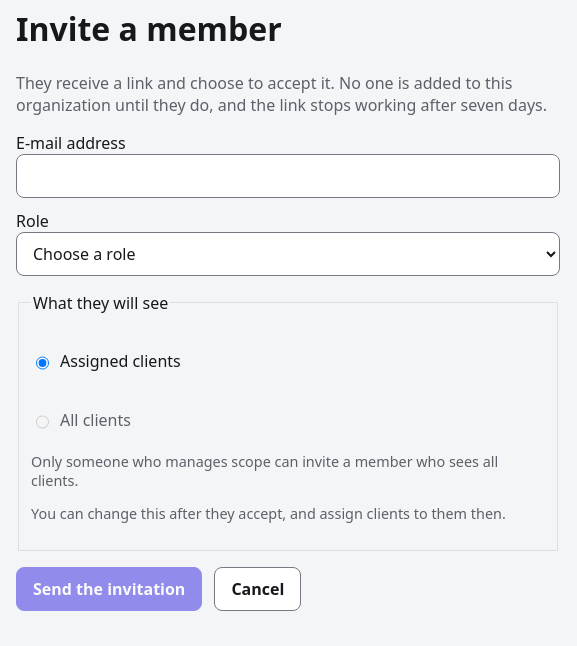
Test: InviteMemberScreen — the address › does not send adnan, and says why at the field
The image size is (577, 646).
Type "adnan" into the field labelled "E-mail address" at point(288, 176), box x1=16 y1=154 x2=560 y2=198
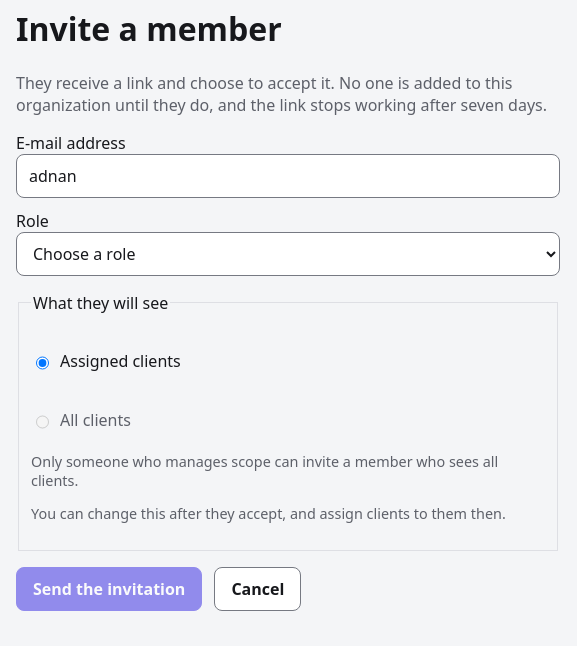
Select "Viewer" in the dropdown labelled "Role" at point(288, 254), box x1=16 y1=232 x2=560 y2=276
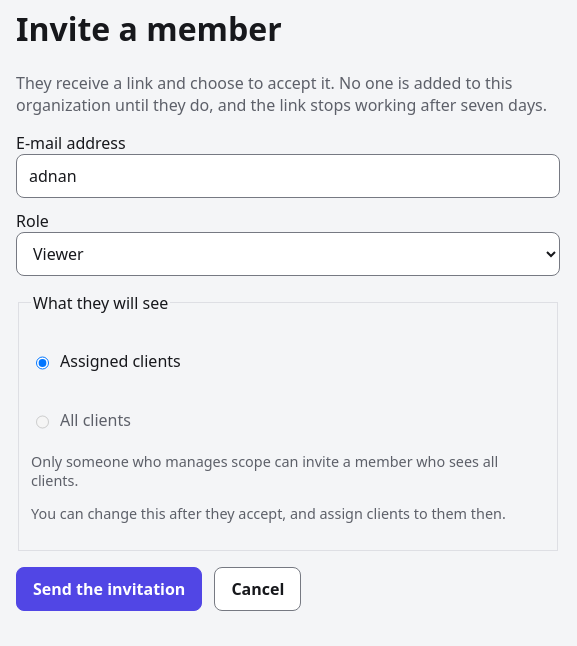
Click the button "Send the invitation" at point(109, 589), box x1=16 y1=567 x2=202 y2=611
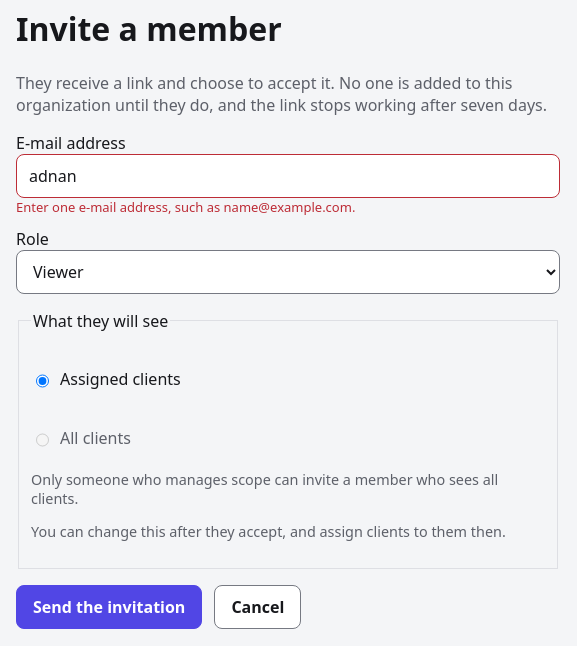
Now the text "Enter one e-mail address, such as name@example.com." is shown, box x1=16 y1=198 x2=355 y2=216
